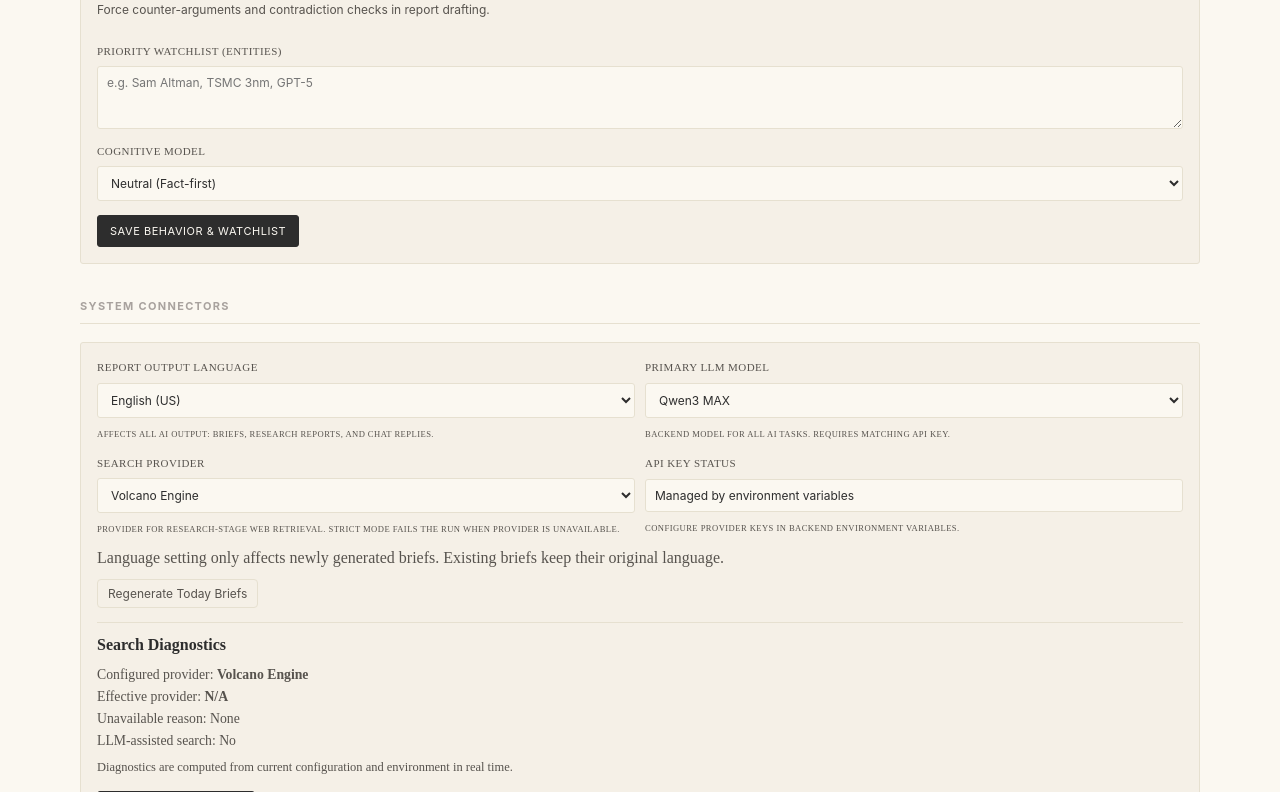
Test: SettingsPanel starter packs › passes the currently selected language when regenerating briefs
This screenshot has width=1280, height=792.
(page scrolled)
Select "Chinese (Simplified)" in the dropdown labelled "Report Output Language" at [366, 400], box [97,382,635,418]
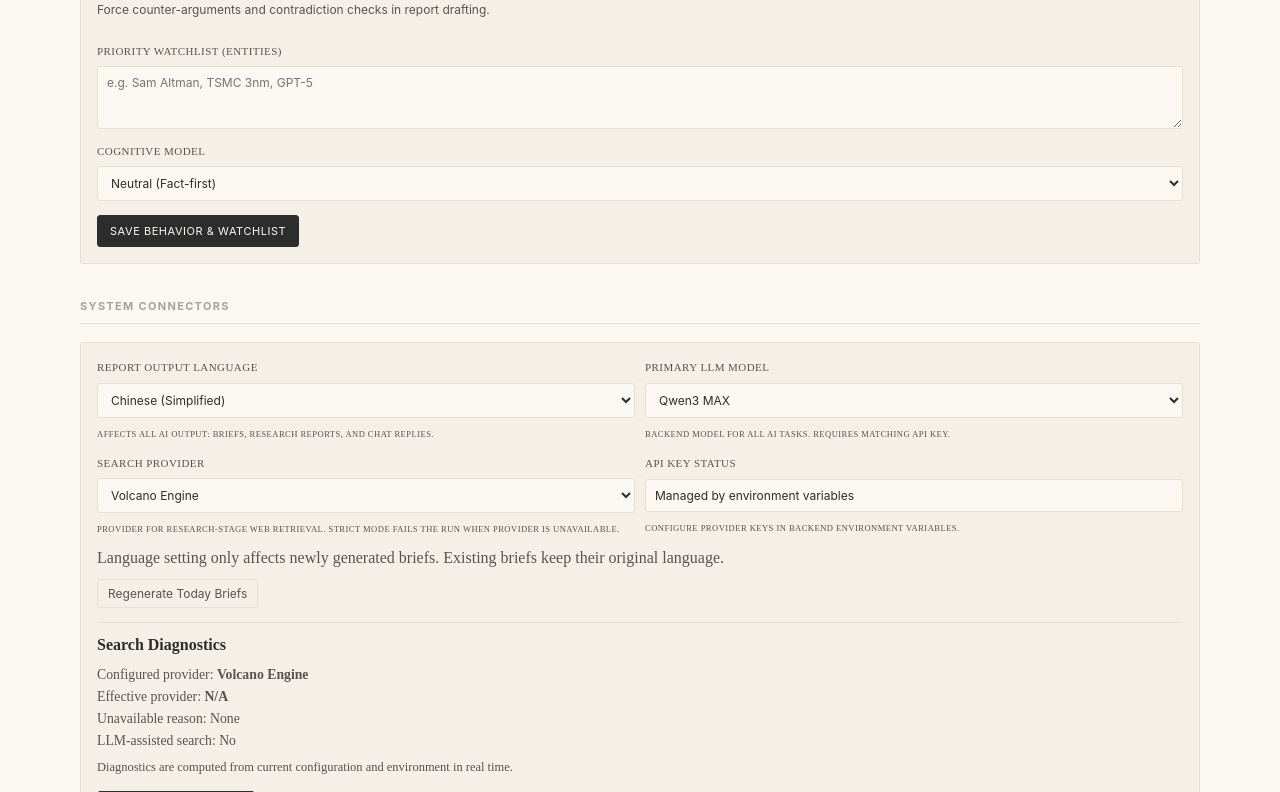
Click the button "Regenerate Today Briefs" at [178, 593], box [97,579,258,608]
(page scrolled)
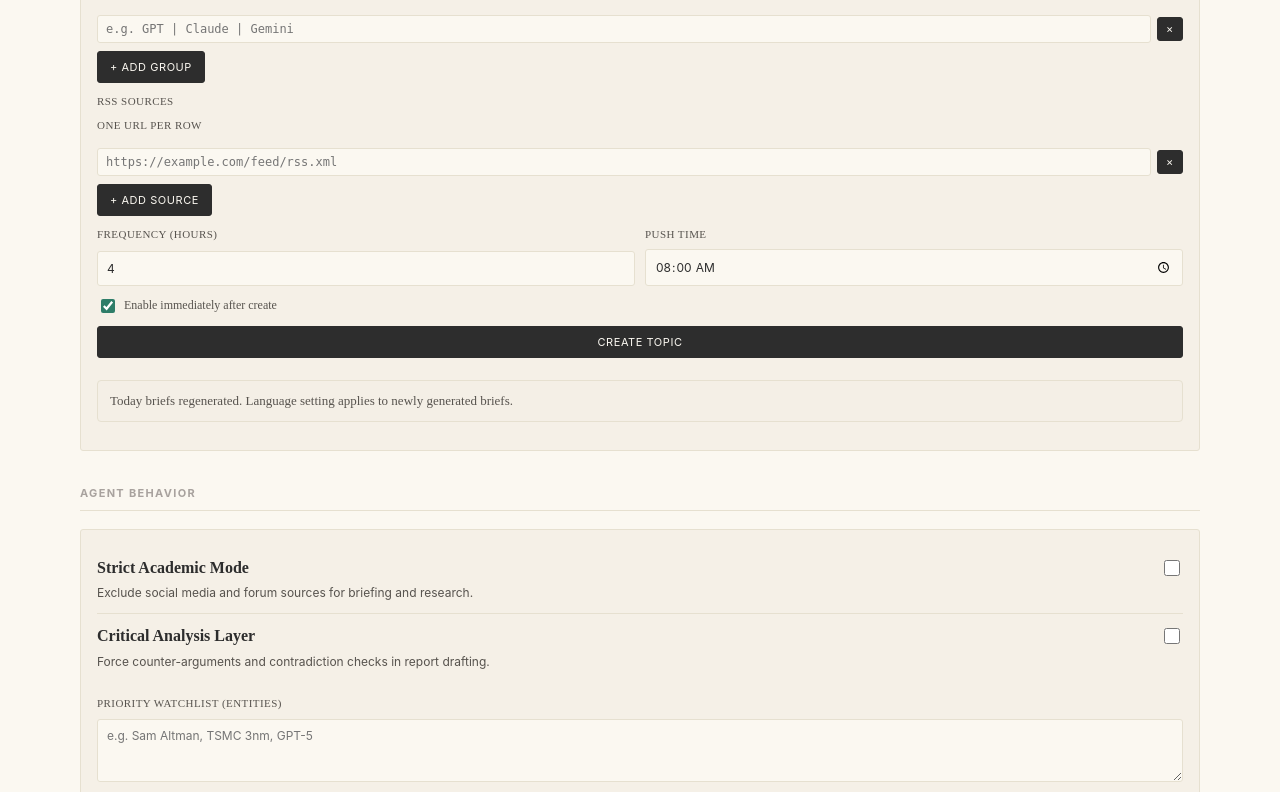
Result: the text "Today briefs regenerated" is shown at [110,392,513,408]
